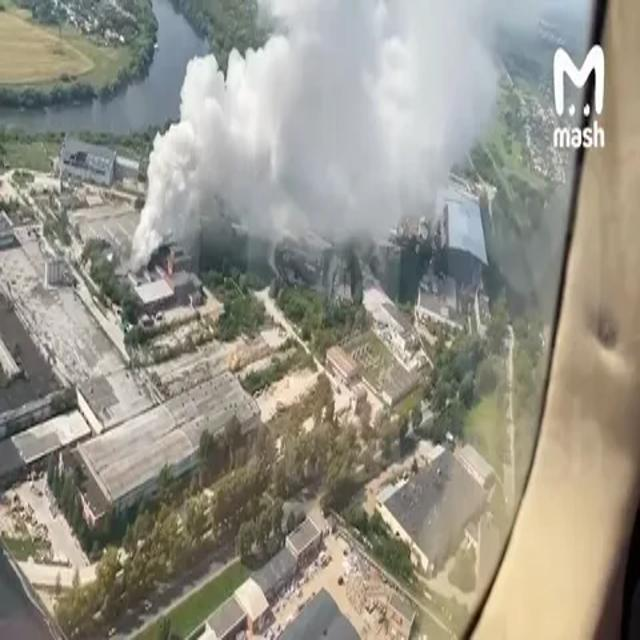Smoke: (132, 0, 510, 274)
